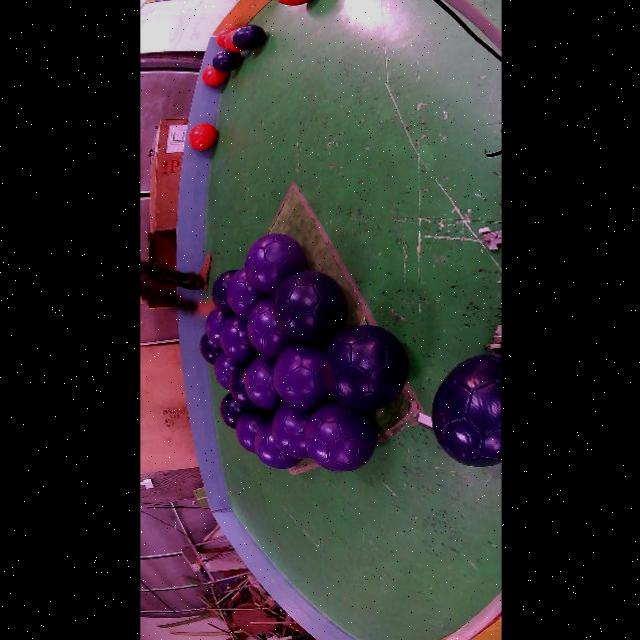B: (432, 354, 502, 467), (322, 324, 407, 410), (273, 271, 346, 344), (229, 365, 261, 412), (211, 272, 236, 313), (219, 394, 246, 429), (231, 24, 265, 51), (198, 334, 221, 365), (211, 49, 241, 72)
P: (303, 403, 378, 472), (273, 344, 331, 410), (244, 234, 305, 295), (246, 298, 293, 360), (271, 404, 312, 459), (254, 420, 300, 469), (244, 356, 283, 410), (226, 268, 268, 318), (219, 315, 259, 364), (235, 412, 273, 454), (212, 352, 240, 390), (205, 308, 230, 347)
R: (201, 64, 227, 86), (188, 132, 216, 150), (224, 30, 242, 52), (216, 28, 234, 48), (277, 0, 311, 5)
